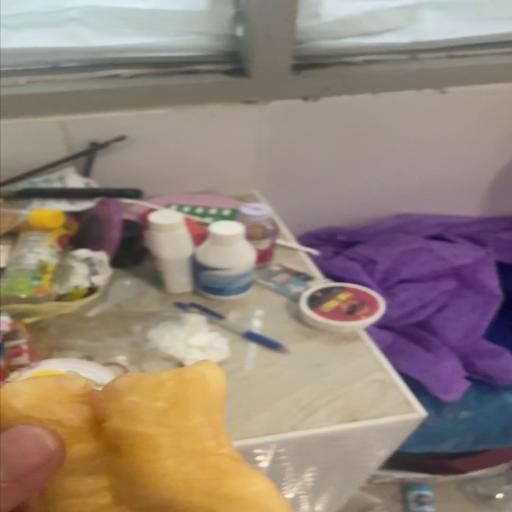street_golden_defect: (0, 361, 292, 512)
